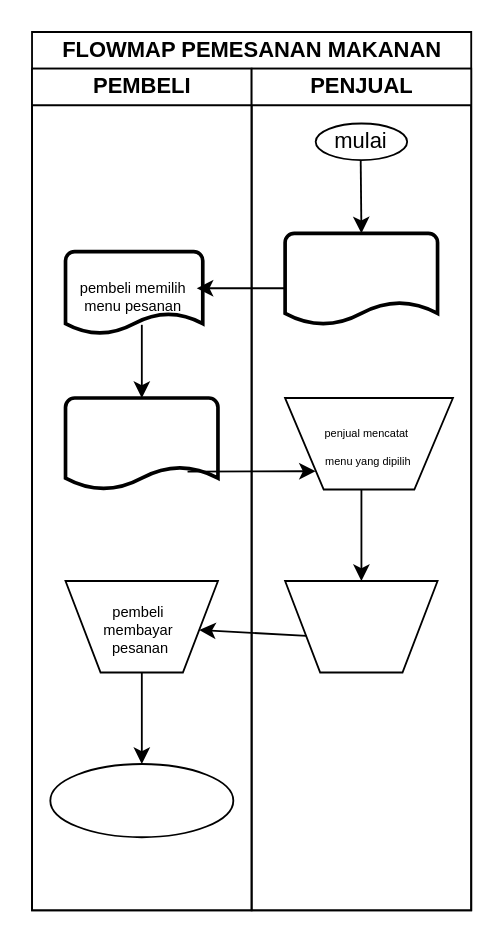
Image size: 503x942. Some labels were removed from this diagram. Each missing label, with the centre of its shape:
pembeli mengajukan pesanan menu: (141,442)
penjual memberikan menu: (360,278)
penjual menghitung pesanan: (360,626)
selesai: (140,799)
